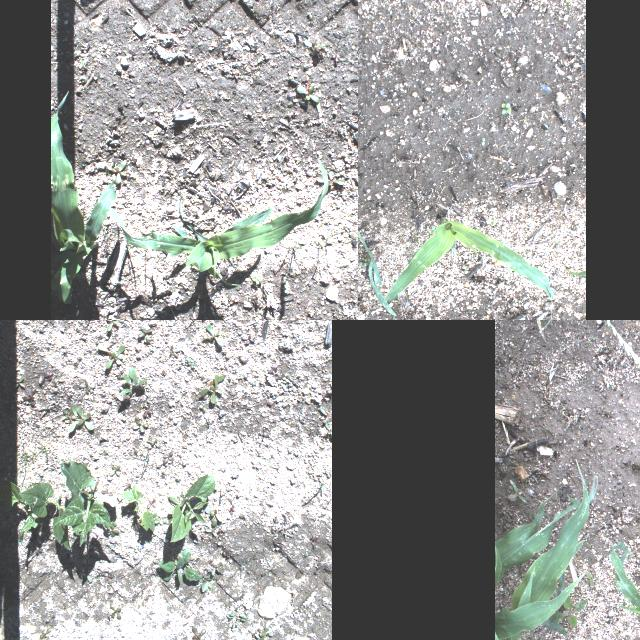crop: (108, 162, 330, 286), (494, 458, 597, 640), (384, 216, 554, 302), (51, 91, 115, 303), (53, 459, 117, 546), (1, 481, 70, 549), (358, 207, 398, 316), (608, 488, 640, 623), (171, 476, 215, 542), (122, 484, 156, 532), (566, 270, 586, 276)
weed: (494, 320, 640, 394), (158, 547, 202, 583), (548, 593, 588, 627), (61, 403, 95, 432), (198, 374, 225, 404), (119, 367, 147, 395), (98, 345, 124, 369), (296, 83, 320, 105), (508, 478, 528, 504), (16, 436, 28, 478), (108, 159, 126, 185), (227, 606, 247, 628), (28, 441, 48, 462), (205, 508, 222, 530), (206, 325, 224, 345), (168, 494, 186, 514), (304, 38, 328, 50), (200, 574, 216, 592), (321, 407, 331, 431), (138, 326, 152, 342), (133, 418, 149, 432), (107, 521, 121, 537), (258, 626, 273, 640), (79, 381, 95, 394), (162, 450, 174, 466), (586, 572, 598, 588), (192, 628, 206, 640), (210, 562, 222, 576), (12, 376, 24, 388), (110, 605, 120, 619), (105, 320, 119, 330), (146, 438, 160, 448), (205, 526, 218, 536), (251, 275, 263, 285), (500, 103, 512, 113), (39, 628, 51, 638), (169, 345, 179, 357), (162, 518, 172, 530), (110, 465, 120, 475), (248, 630, 260, 638), (152, 512, 160, 524), (411, 233, 419, 244), (362, 258, 372, 266), (198, 404, 208, 412), (144, 407, 152, 417), (187, 358, 196, 366), (480, 136, 486, 146), (550, 238, 560, 244), (588, 334, 596, 341), (490, 218, 494, 226), (586, 542, 594, 546), (564, 0, 573, 3), (358, 265, 361, 271), (100, 451, 108, 453)
